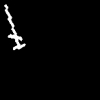double_crochet: (5, 5, 24, 49)
